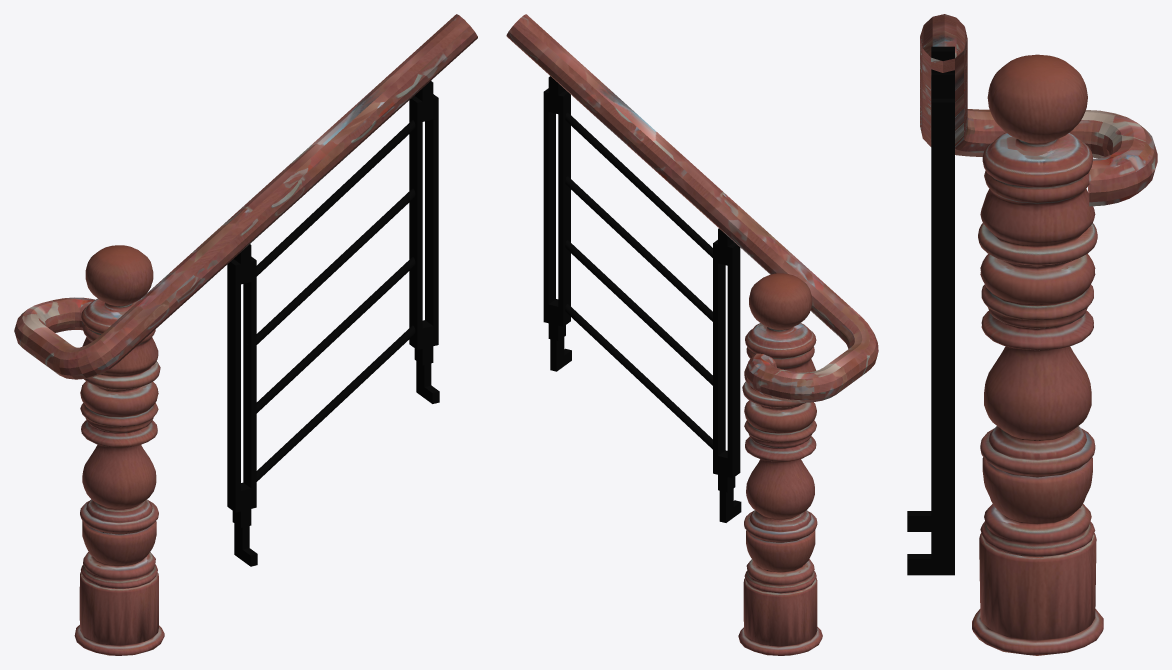
File: Stair_Handrail.fbx
3 renders of one model, left to right at view 1: azimuth 30°, elevation 25°; view 2: azimuth 150°, elevation 25°; view 3: azimuth 270°, elevation 25°, orthographic. The views are drawn at different scales.
Visible parts, largest first — view 1: Stair_Handrail; view 2: Stair_Handrail; view 3: Stair_Handrail.
Boxes of the visible parts, x1=… form: Stair_Handrail: x1=14, y1=14, x2=477, y2=655; Stair_Handrail: x1=506, y1=14, x2=878, y2=655; Stair_Handrail: x1=907, y1=14, x2=1157, y2=655.
Bounding box in the file's own units: 115 × 155 × 41.98.
